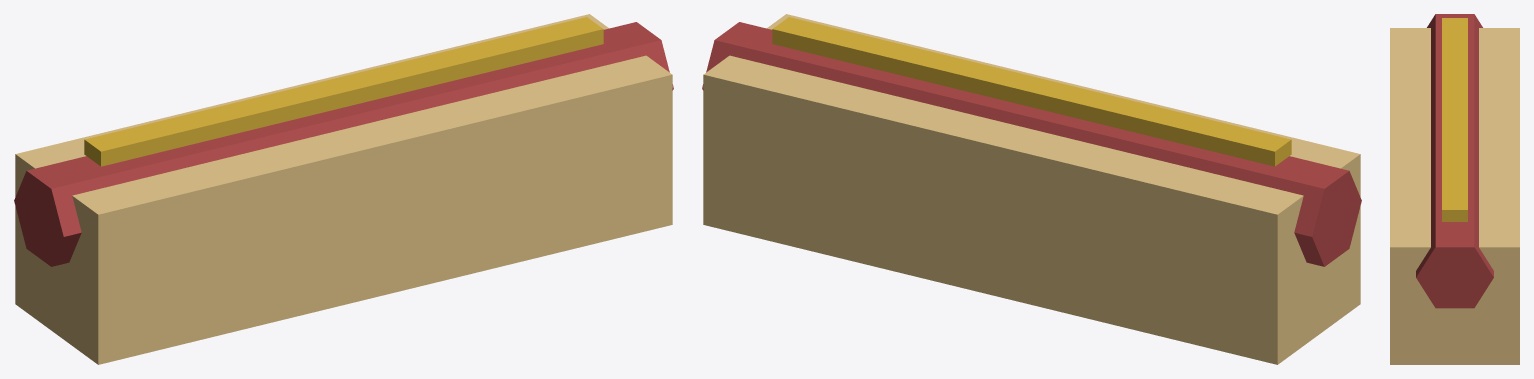
Rendered from FD_HotDog_01.glb.
The picture shows the model from 3 angles, left to right: view 1: azimuth 30°, elevation 25°; view 2: azimuth 150°, elevation 25°; view 3: azimuth 270°, elevation 25°; orthographic projection. The views are drawn at different scales.
Parts seen in each view (by area): view 1: FD_HotDog_01; view 2: FD_HotDog_01; view 3: FD_HotDog_01.
Part boxes in pixels (bbox=[...]): FD_HotDog_01: bbox=[14, 14, 673, 364]; FD_HotDog_01: bbox=[702, 14, 1361, 364]; FD_HotDog_01: bbox=[1390, 14, 1519, 364].
Size of the model in its own units: 0.17 by 0.048 by 0.04.
Materials: 1 (1 with a texture image).
